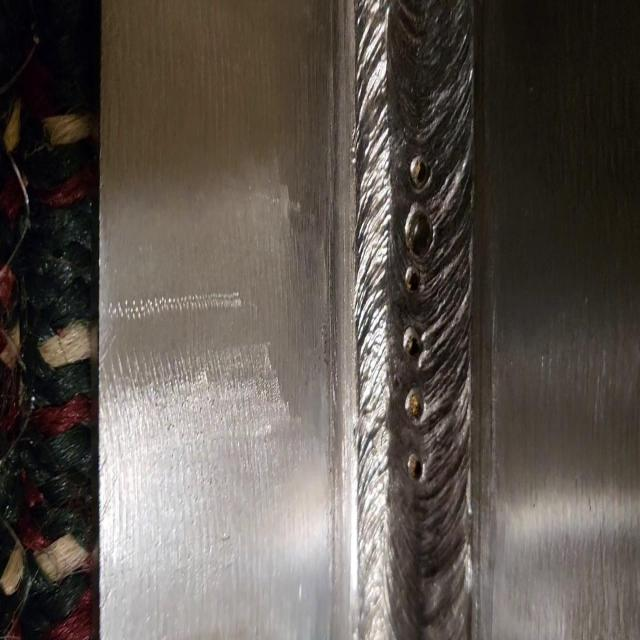Welding Line: (354, 0, 480, 640)
Workpiece: (102, 4, 636, 640)
porosity: (404, 156, 436, 482)
